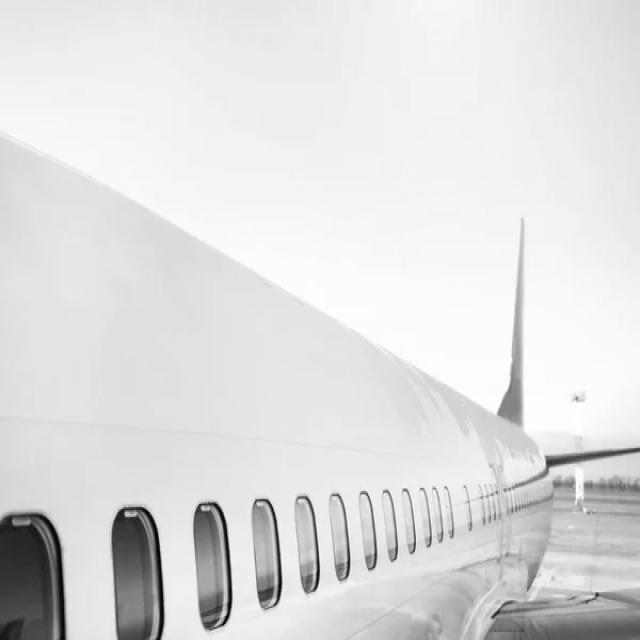Aircraft: (4, 127, 630, 640)
